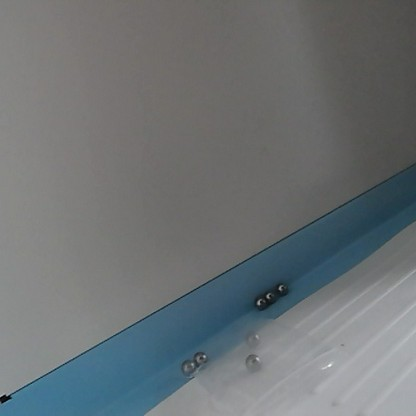ironball: (241, 352, 264, 372), (242, 328, 262, 349), (179, 359, 199, 377), (191, 348, 210, 365), (274, 279, 289, 297), (260, 288, 274, 303), (254, 296, 267, 311)
